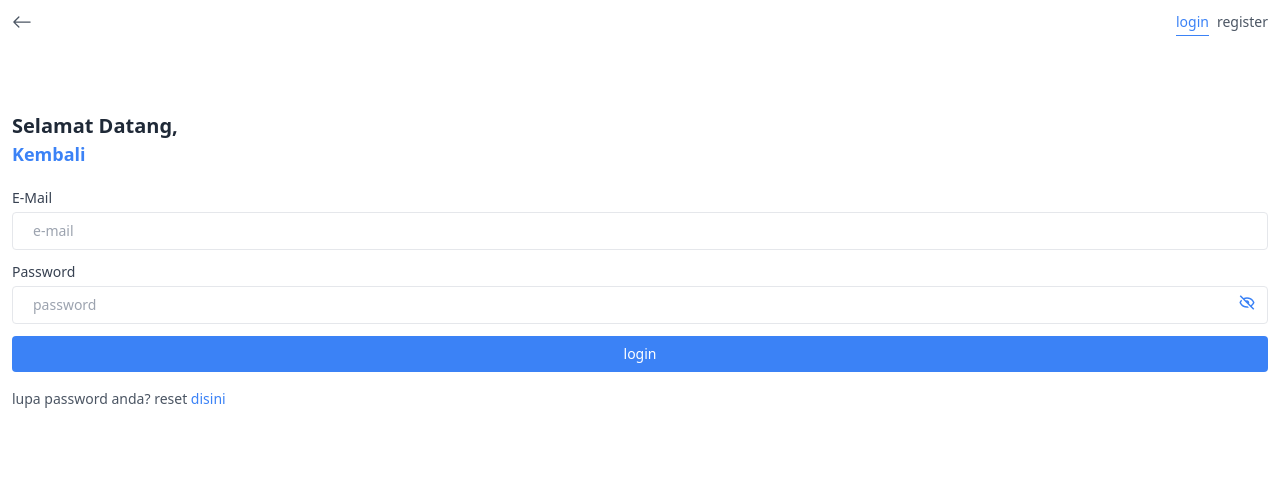
Scenario: Login › input password minimal 6 character
Type "123" into the password field with placeholder "password" at (640, 305), box top-left (12, 286), bottom-right (1268, 324)
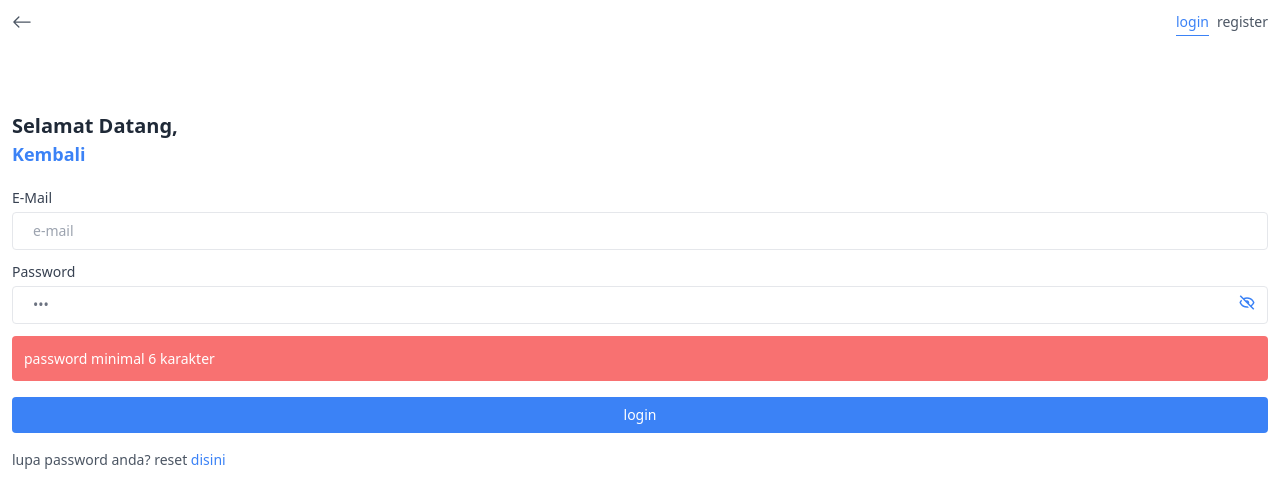
Expected: the text "password minimal 6 karakter" is shown, top-left (24, 349), bottom-right (215, 368)
